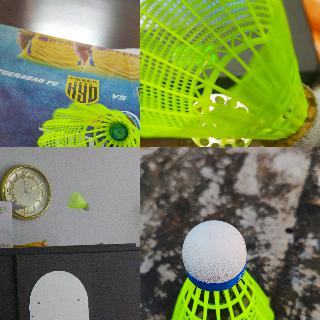shuttlecock: (140, 0, 319, 146), (170, 220, 273, 319), (36, 102, 139, 146), (68, 192, 90, 210)
